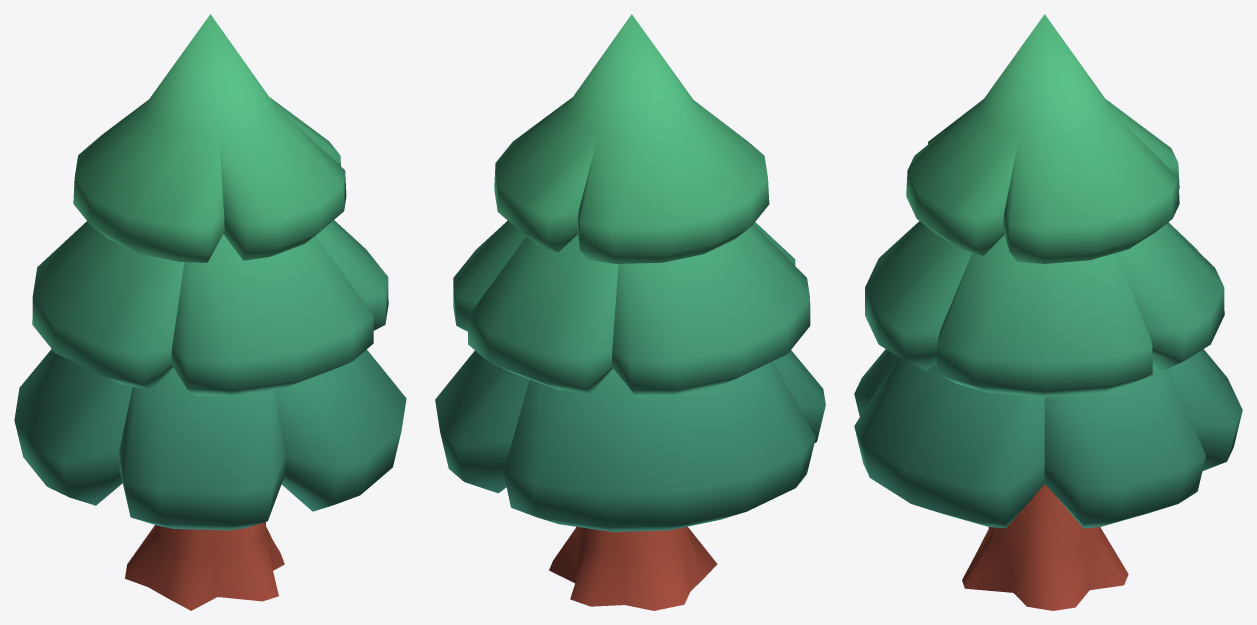
File: Resource_Tree_4_Full.FBX
3 views of the same model, side by side, from view 1: azimuth 30°, elevation 25°; view 2: azimuth 150°, elevation 25°; view 3: azimuth 270°, elevation 25° (orthographic).
Parts seen in each view (by area): view 1: Resource_Tree_4_Full; view 2: Resource_Tree_4_Full; view 3: Resource_Tree_4_Full.
Boxes of the visible parts, <box> form: Resource_Tree_4_Full: <box>14,14,406,610</box>; Resource_Tree_4_Full: <box>435,14,825,610</box>; Resource_Tree_4_Full: <box>854,14,1242,610</box>.
Bounding box in the file's own units: 84.97 × 135 × 84.97.
